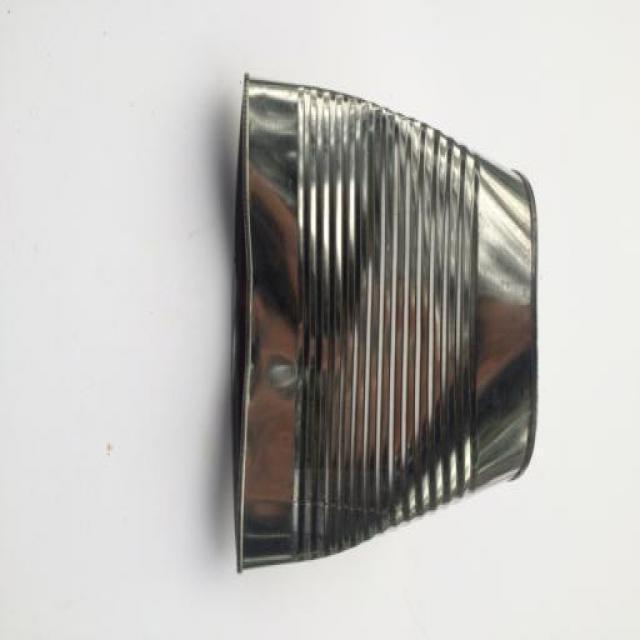metal: (225, 61, 543, 574)
